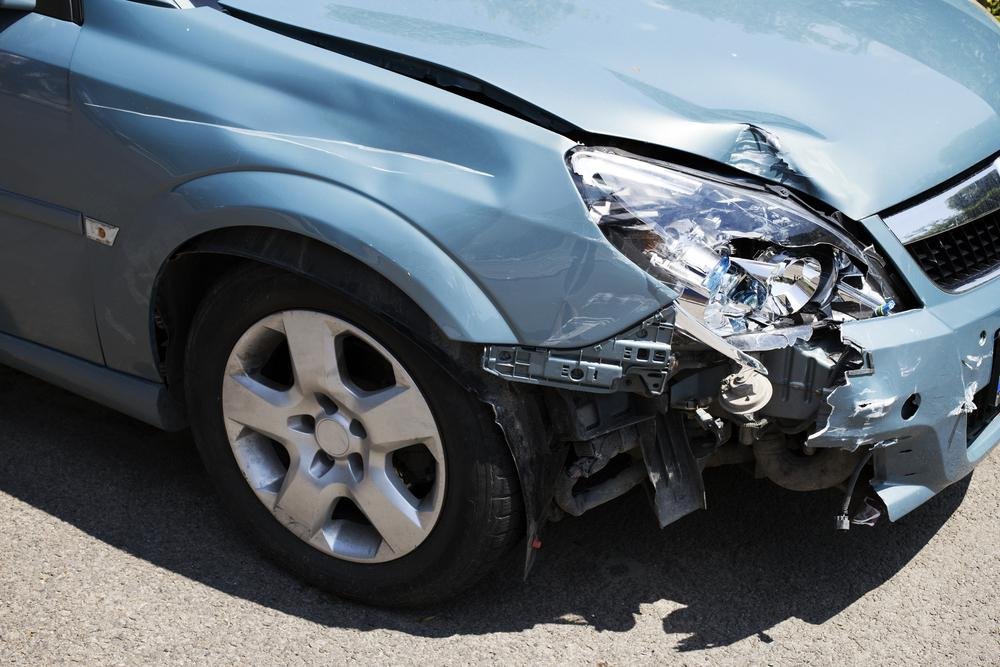dent: (220, 62, 522, 258), (625, 66, 822, 193)
lamp broken: (573, 147, 906, 338)
scratch: (536, 289, 666, 346)
